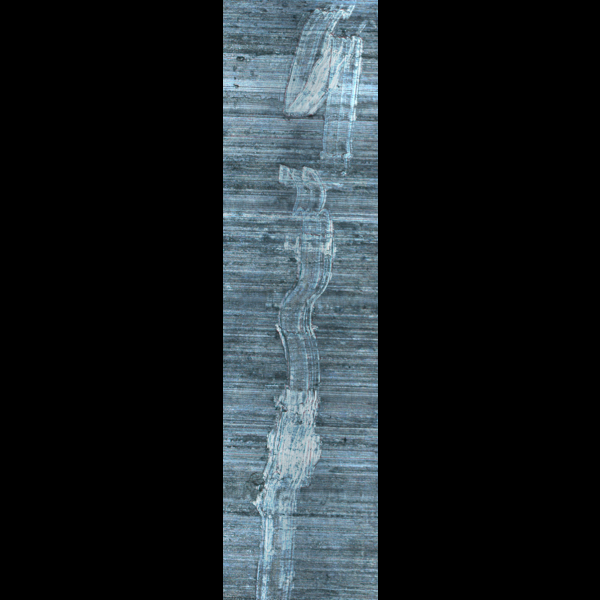d: (244, 3, 368, 600)
